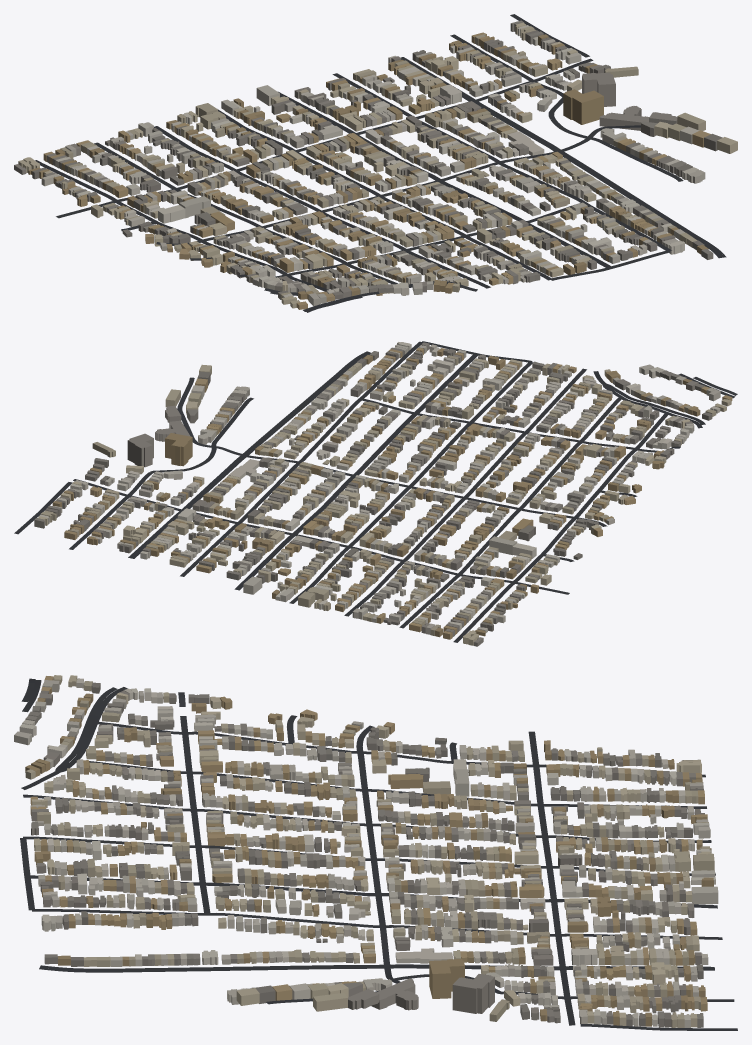
File: tile_6_15.glb
The picture shows the model from 3 angles, top to bottom: view 1: azimuth 30°, elevation 25°; view 2: azimuth 150°, elevation 25°; view 3: azimuth 270°, elevation 25°; orthographic projection. The views are drawn at different scales.
Visible parts, largest first — view 1: bld_6_15, road_6_15; view 2: bld_6_15, road_6_15; view 3: bld_6_15, road_6_15.
Boxes of the visible parts, box(x1,y1,x2,y2) form: bld_6_15: box(14, 20, 737, 309); road_6_15: box(35, 14, 726, 312); bld_6_15: box(34, 342, 732, 646); road_6_15: box(14, 341, 737, 642); bld_6_15: box(14, 675, 718, 1027); road_6_15: box(20, 678, 737, 1030).
Size of the model in its own units: 865 by 120 by 851.
